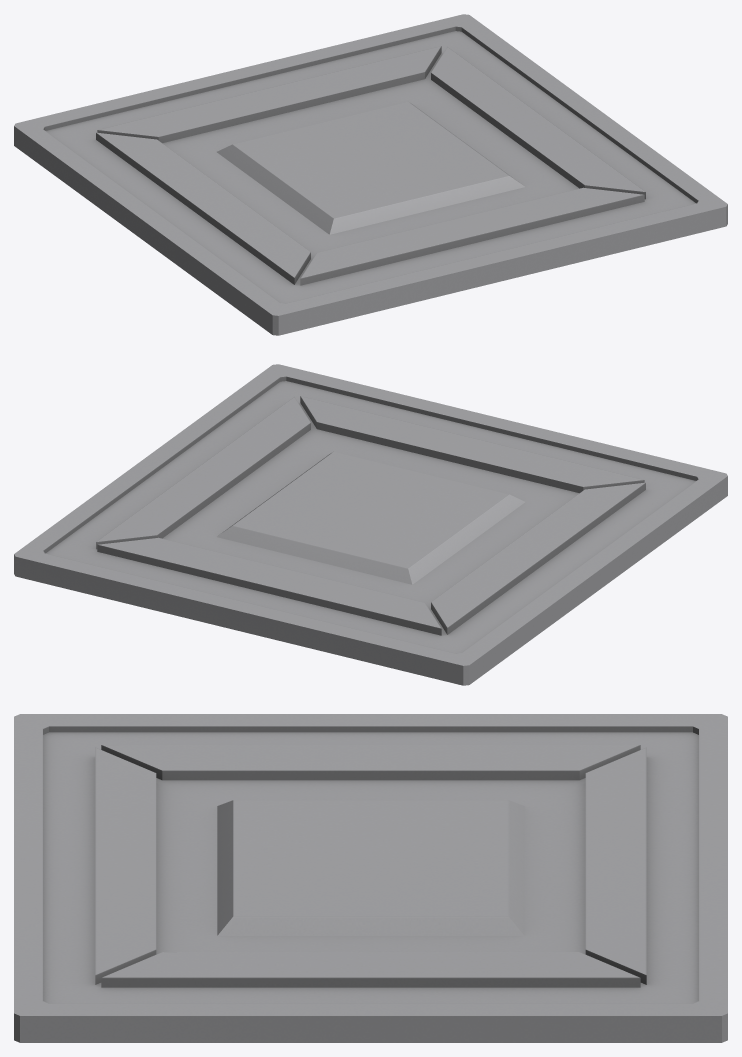
The model's file is Spawn Plate.fbx.
3 renders of one model, top to bottom at view 1: azimuth 30°, elevation 25°; view 2: azimuth 150°, elevation 25°; view 3: azimuth 270°, elevation 25°, orthographic. The views are drawn at different scales.
Parts seen in each view (by area): view 1: Spawn Plate; view 2: Spawn Plate; view 3: Spawn Plate.
Boxes of the visible parts, x1,y1,x2,y2 form: Spawn Plate: [14, 14, 727, 335]; Spawn Plate: [14, 364, 727, 685]; Spawn Plate: [14, 714, 727, 1042].
Size of the model in its own units: 240 by 12.49 by 240.
